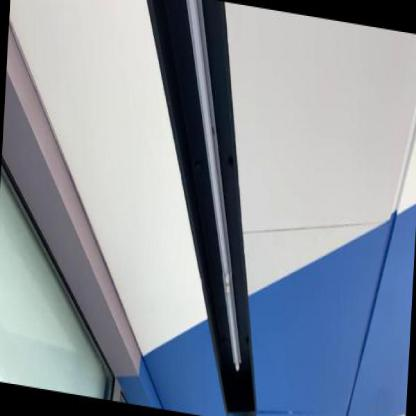light_off: (160, 0, 271, 379)
